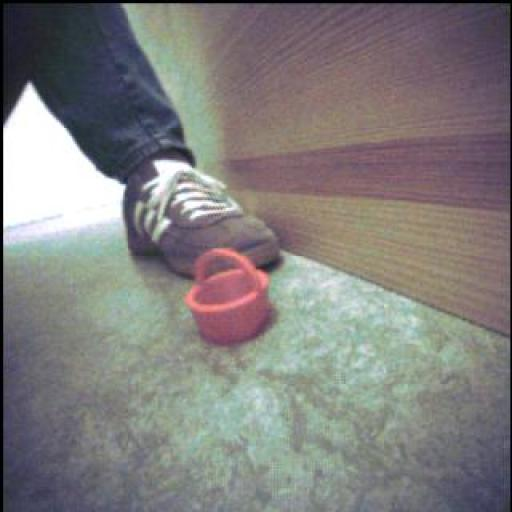Bucket: (185, 249, 271, 345)
